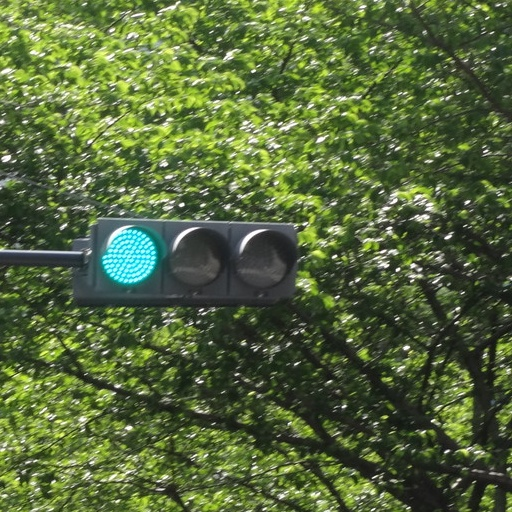Traffic_Signal_Blue: (86, 212, 296, 300)
